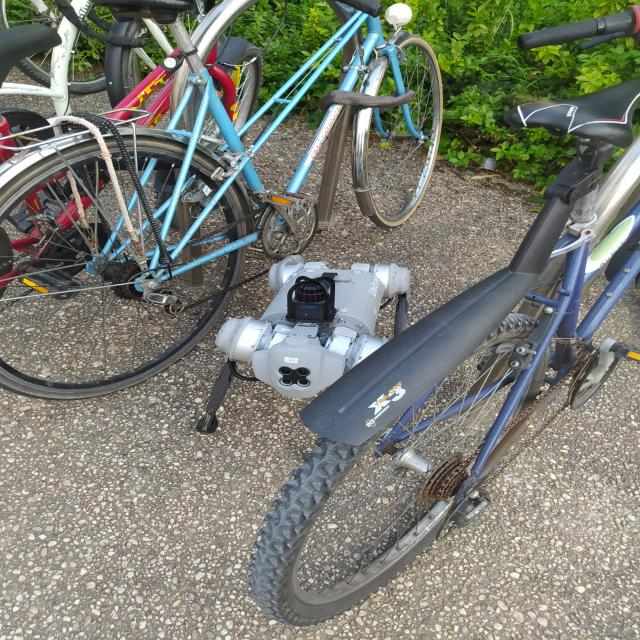unitree-go1-robot: (197, 244, 431, 450)
